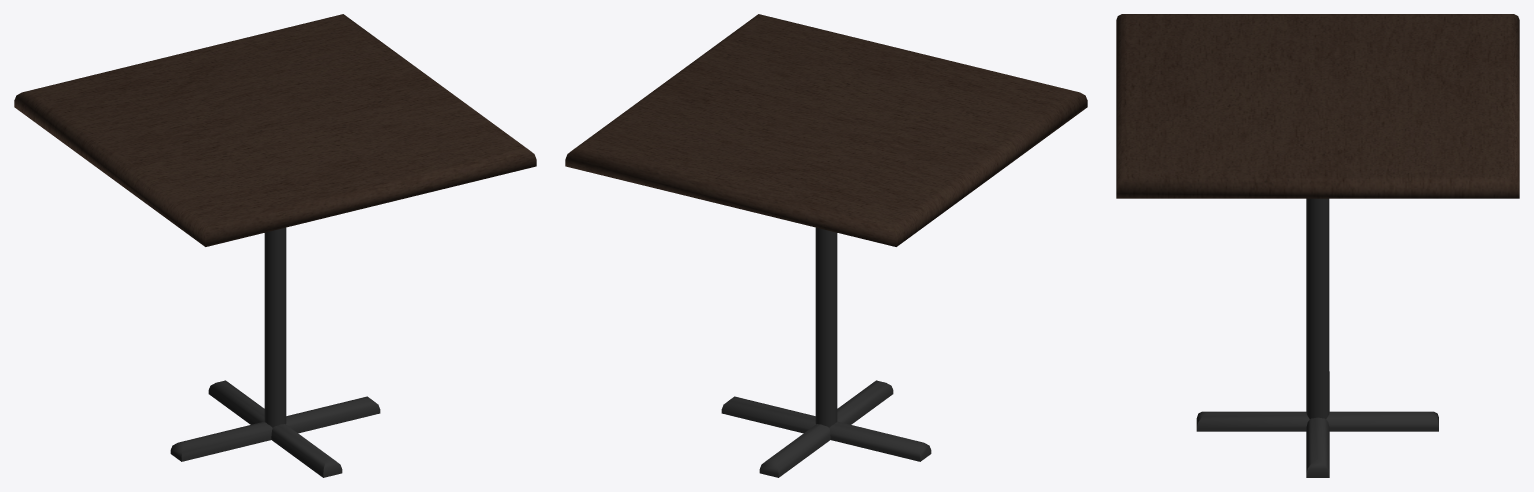
The model's file is Tables_Restaurant_Tables_3.fbx.
3 renders of one model, left to right at view 1: azimuth 30°, elevation 25°; view 2: azimuth 150°, elevation 25°; view 3: azimuth 270°, elevation 25°, orthographic. The views are drawn at different scales.
Visible parts, largest first — view 1: Cube.014; view 2: Cube.014; view 3: Cube.014.
Part boxes in pixels (bbox=[...]): Cube.014: bbox=[14, 14, 536, 477]; Cube.014: bbox=[565, 14, 1087, 477]; Cube.014: bbox=[1116, 14, 1519, 477].
Bounding box in the file's own units: 100 × 90.6 × 100.
